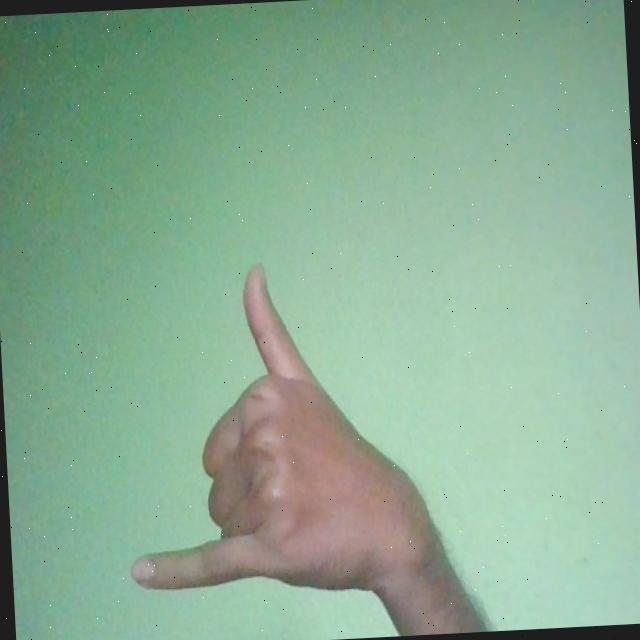Call Me: (113, 252, 450, 604)
